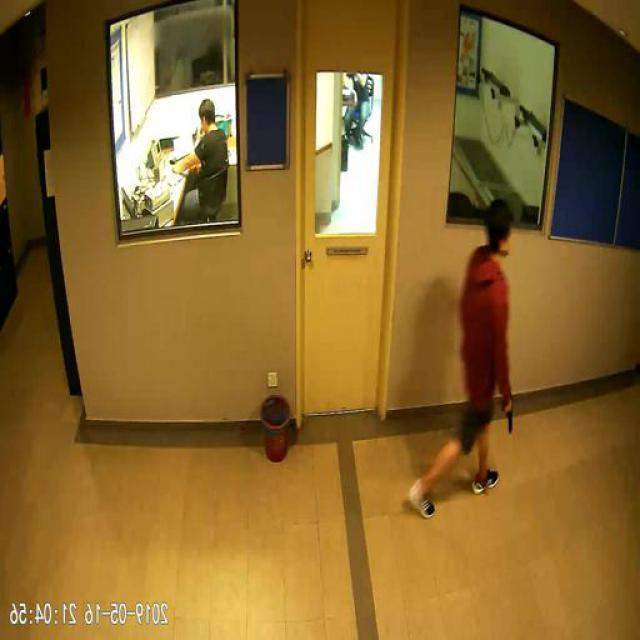Gun: (504, 392, 515, 432)
